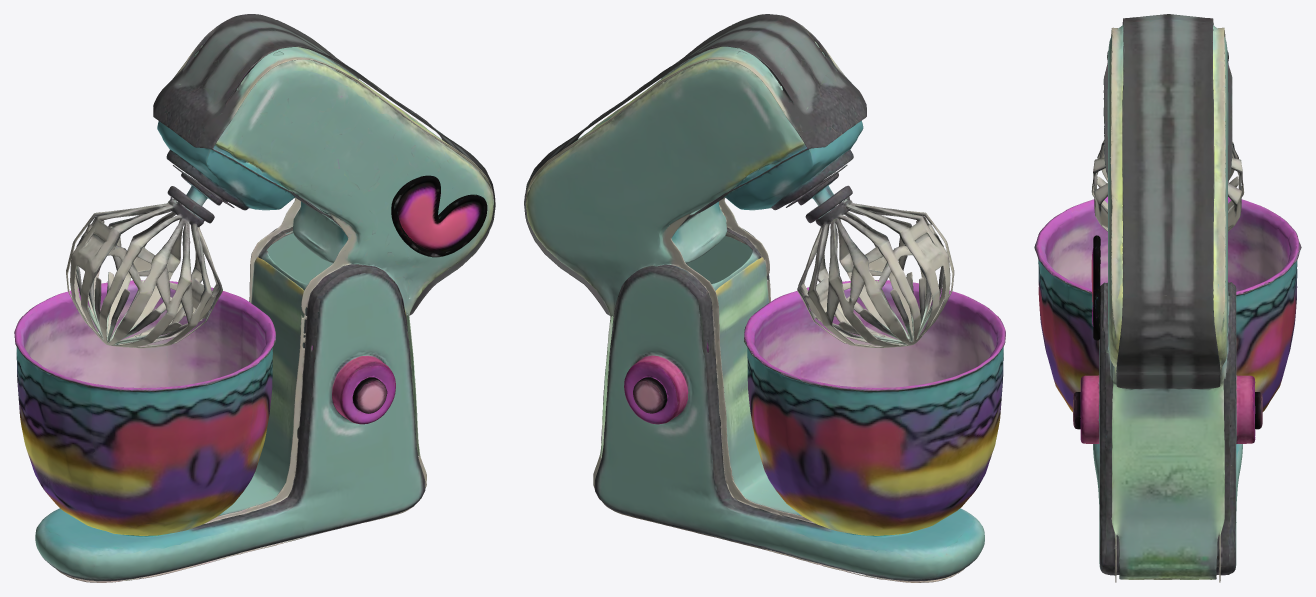
The model's file is mixer.glb.
The picture shows the model from 3 angles, left to right: view 1: azimuth 30°, elevation 25°; view 2: azimuth 150°, elevation 25°; view 3: azimuth 270°, elevation 25°; orthographic projection.
Parts seen in each view (by area): view 1: world; view 2: world; view 3: world.
Part boxes in pixels (left/top/right/bottom): world: left=14, top=14, right=495, bottom=582; world: left=524, top=14, right=1005, bottom=582; world: left=1034, top=14, right=1301, bottom=582.
Bounding box in the file's own units: 0.9339 × 1 × 0.4816.
1 material, 1 textured.
